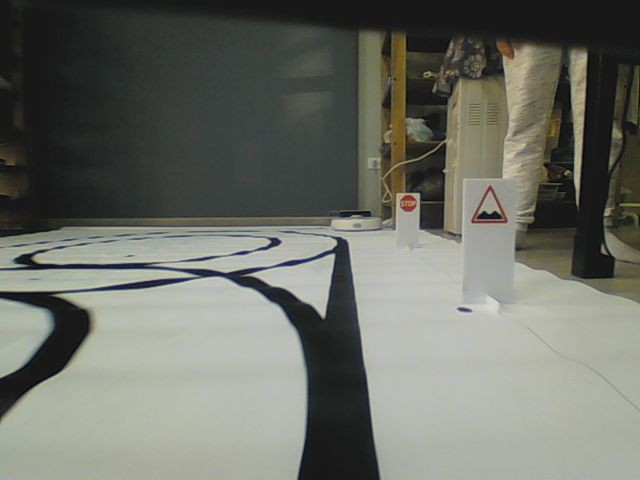Nerov: (470, 184, 508, 225)
Stop: (400, 194, 418, 212)
